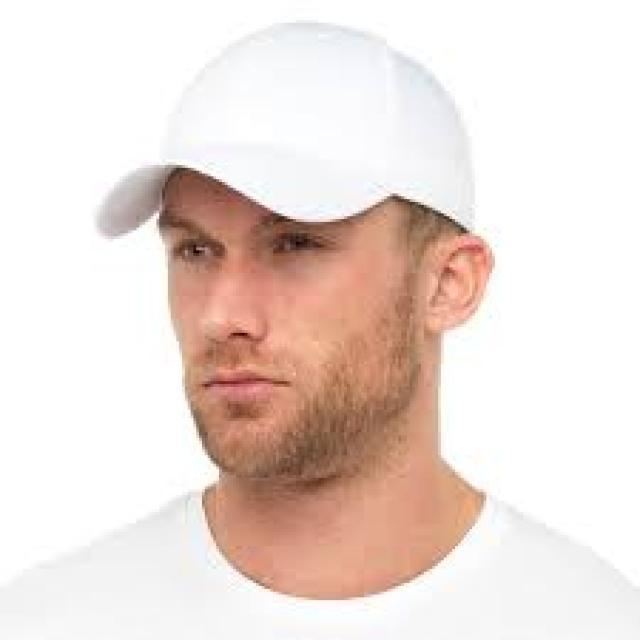cap: (79, 9, 525, 296)
